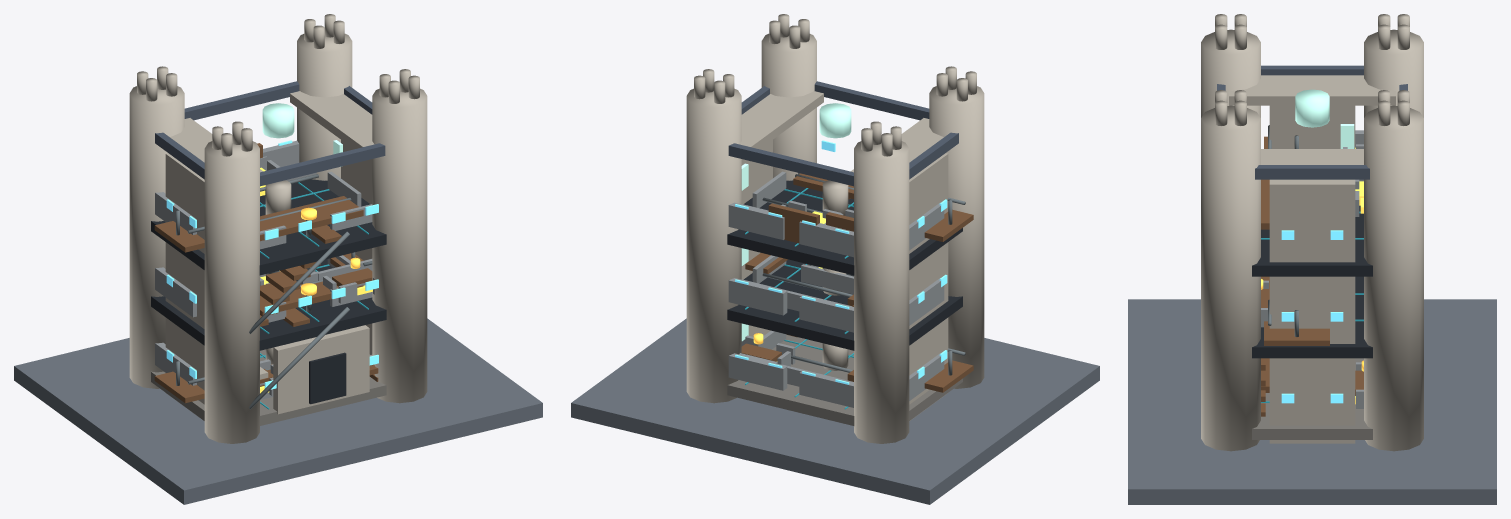
3 views of the same model, side by side, from view 1: azimuth 30°, elevation 25°; view 2: azimuth 150°, elevation 25°; view 3: azimuth 270°, elevation 25° (orthographic). The views are drawn at different scales.
Parts seen in each view (by area): view 1: ProfileGround.010, FortressKeep_visual_fortress_0, FortressKeep_visual_fortress_1, FortressKeep_visual_fortress_2, TowerButtress_visual_fortress_-1, FortressGate_visual_fortress, FortressKeep_visual_fortress_3, BuildingFloor_3.004, BuildingFloor_2.007, FortressWallWalk_visual_fortress_1, BuildingFloor_1.007, TowerEaveSouth_visual_fortress (+18 smaller); view 2: ProfileGround.010, FortressKeep_visual_fortress_2, FortressKeep_visual_fortress_3, FortressKeep_visual_fortress_0, TowerButtress_visual_fortress_-1, FortressKeep_visual_fortress_1, BuildingFloor_2.007, BuildingFloor_1.007, BuildingFloor_3.004, FortressWallWalk_visual_fortress_1, TowerEaveNorth_visual_fortress, TowerEaveSouth_visual_fortress (+19 smaller); view 3: ProfileGround.010, FortressKeep_visual_fortress_1, FortressKeep_visual_fortress_3, TowerButtress_visual_fortress_1, FortressWallWalk_visual_fortress_-1, FortressKeep_visual_fortress_0, FortressKeep_visual_fortress_2, TowerButtress_visual_fortress_-1, BuildingFloor_3.004, BuildingFloor_2.007, BuildingFloor_1.007, TowerEaveEast_visual_fortress (+5 smaller).
Part boxes in pixels (<box>): ProfileGround.010: <box>14,318,542,504</box>; FortressKeep_visual_fortress_0: <box>204,141,259,443</box>; FortressKeep_visual_fortress_1: <box>372,88,427,403</box>; FortressKeep_visual_fortress_2: <box>129,86,184,388</box>; TowerButtress_visual_fortress_-1: <box>165,153,204,420</box>; FortressGate_visual_fortress: <box>273,325,369,414</box>; FortressKeep_visual_fortress_3: <box>297,33,352,180</box>; BuildingFloor_3.004: <box>151,179,386,275</box>; BuildingFloor_2.007: <box>151,259,386,350</box>; FortressWallWalk_visual_fortress_1: <box>290,91,374,149</box>; BuildingFloor_1.007: <box>151,349,386,425</box>; TowerEaveSouth_visual_fortress: <box>260,143,385,186</box>; ProfileGround.010: <box>571,318,1099,504</box>; FortressKeep_visual_fortress_2: <box>854,141,909,443</box>; FortressKeep_visual_fortress_3: <box>686,88,741,403</box>; FortressKeep_visual_fortress_0: <box>929,86,984,388</box>; TowerButtress_visual_fortress_-1: <box>909,153,948,420</box>; FortressKeep_visual_fortress_1: <box>761,33,816,180</box>; BuildingFloor_2.007: <box>727,259,962,350</box>; BuildingFloor_1.007: <box>727,334,962,425</box>; BuildingFloor_3.004: <box>727,180,962,275</box>; FortressWallWalk_visual_fortress_1: <box>739,91,823,149</box>; TowerEaveNorth_visual_fortress: <box>728,143,853,186</box>; TowerEaveSouth_visual_fortress: <box>814,81,929,120</box>; ProfileGround.010: <box>1128,299,1496,504</box>; FortressKeep_visual_fortress_1: <box>1201,105,1260,451</box>; FortressKeep_visual_fortress_3: <box>1364,105,1423,451</box>; TowerButtress_visual_fortress_1: <box>1269,179,1355,443</box>; FortressWallWalk_visual_fortress_-1: <box>1229,75,1395,105</box>; FortressKeep_visual_fortress_0: <box>1201,29,1260,117</box>; FortressKeep_visual_fortress_2: <box>1364,29,1423,117</box>; TowerButtress_visual_fortress_-1: <box>1269,105,1355,148</box>; BuildingFloor_3.004: <box>1252,205,1372,276</box>; BuildingFloor_2.007: <box>1252,276,1372,358</box>; BuildingFloor_1.007: <box>1252,358,1372,439</box>; TowerEaveEast_visual_fortress: <box>1255,165,1369,179</box>.
Bounding box in the file's own units: 5.18 × 4.54 × 4.26.
